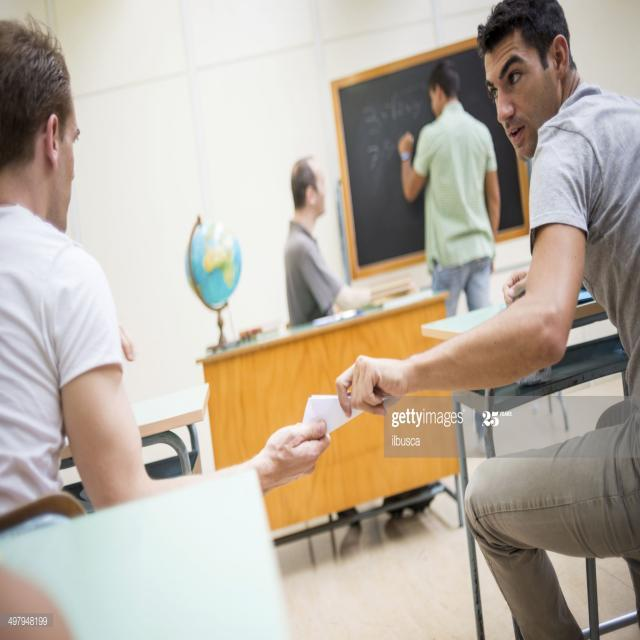cheating: (0, 3, 160, 497), (470, 0, 640, 387), (245, 326, 473, 498)
